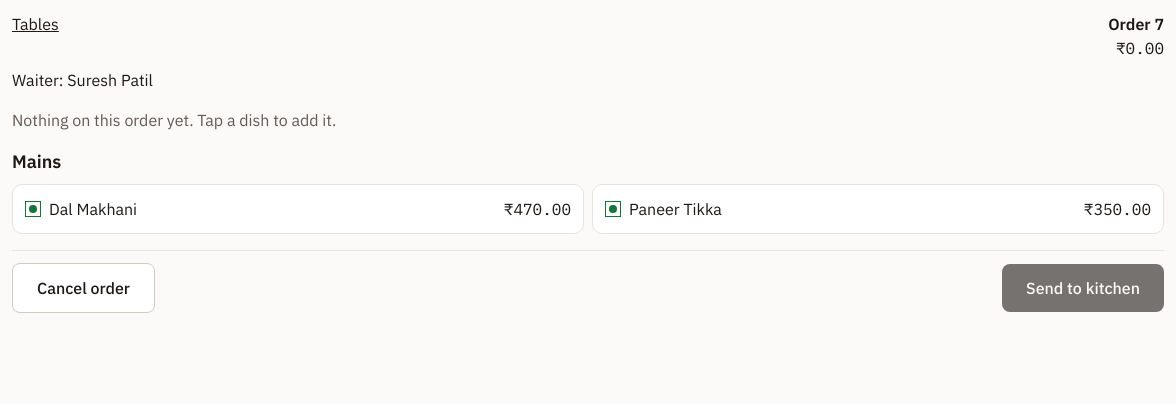
before the server answers › takes the dish back off when the server refuses it
Click the button "Dal Makhani ₹470.00": (93, 209) [12,184,584,234]
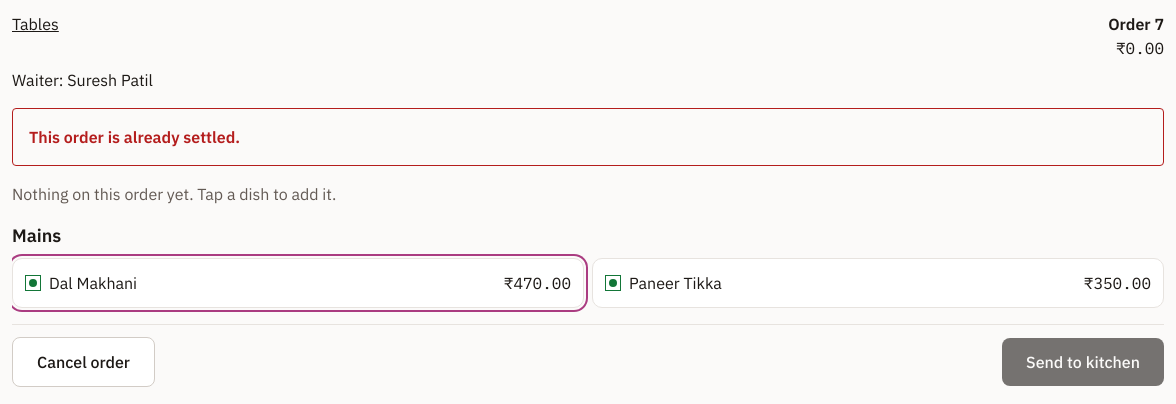
expect the text "This order is already settled." is shown: met, box [29,127,240,147]
